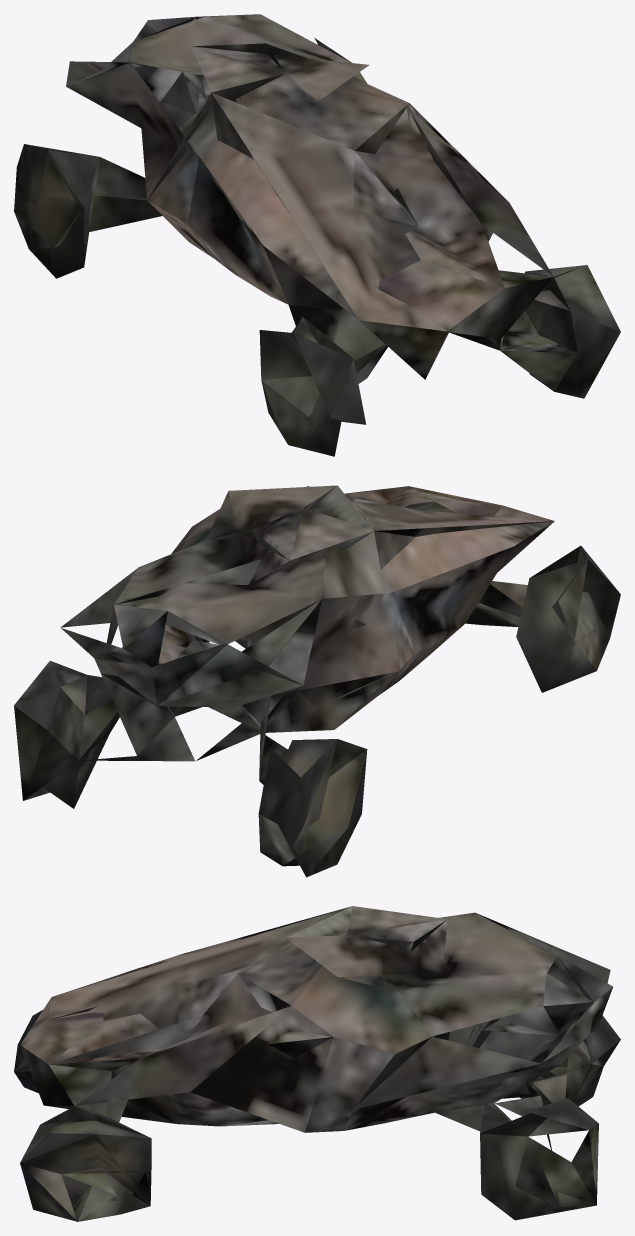
File: buggy_1310892599_lod1.glb
3 renders of one model, top to bottom at view 1: azimuth 30°, elevation 25°; view 2: azimuth 150°, elevation 25°; view 3: azimuth 270°, elevation 25°, orthographic. The views are drawn at different scales.
Size of the model in its own units: 2.43 by 1.83 by 4.42.
Materials: 1 (1 with a texture image).
